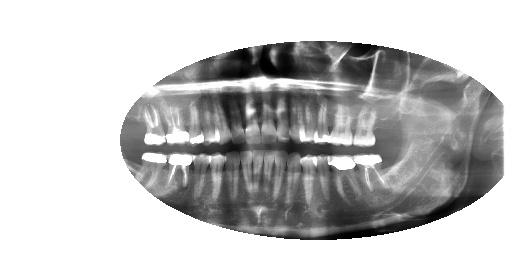i10healthy: (242, 148, 253, 198)
i11healthy: (226, 149, 242, 200)
i12healthy: (210, 152, 226, 202)
i13healthy: (193, 151, 211, 196)
i14healthy: (166, 152, 193, 191)
i15healthy: (135, 151, 168, 187)
i16loss: (121, 144, 142, 170)
i1loss: (382, 151, 406, 178)
i2healthy: (355, 155, 392, 194)
i3healthy: (327, 154, 363, 205)
i4healthy: (318, 151, 332, 205)
i5healthy: (300, 151, 318, 206)
i6healthy: (286, 150, 303, 212)
i7healthy: (275, 148, 289, 207)
i8healthy: (265, 148, 276, 193)
i9healthy: (253, 147, 264, 196)
u10decay: (232, 95, 245, 146)
u11healthy: (217, 94, 232, 145)
u12healthy: (204, 100, 220, 145)
u13healthy: (189, 100, 205, 148)
u14healthy: (166, 103, 190, 148)
u15healthy: (143, 105, 166, 146)
u16loss: (122, 102, 142, 143)
u1loss: (376, 112, 401, 144)
u2healthy: (353, 108, 376, 149)
u3healthy: (330, 106, 355, 146)
u4healthy: (316, 99, 332, 144)
u5healthy: (301, 96, 316, 145)
u6healthy: (290, 95, 300, 142)
u7decay: (277, 96, 290, 144)
u8decay: (262, 93, 277, 145)
u9healthy: (245, 95, 261, 145)
